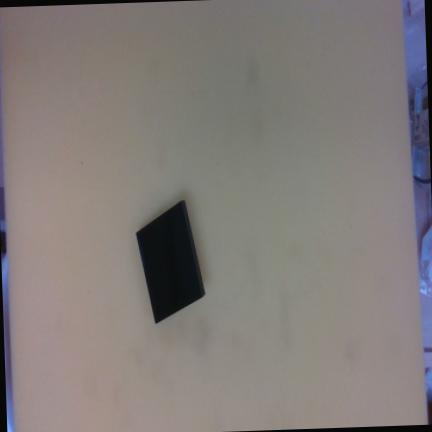tile: (132, 200, 205, 325)
